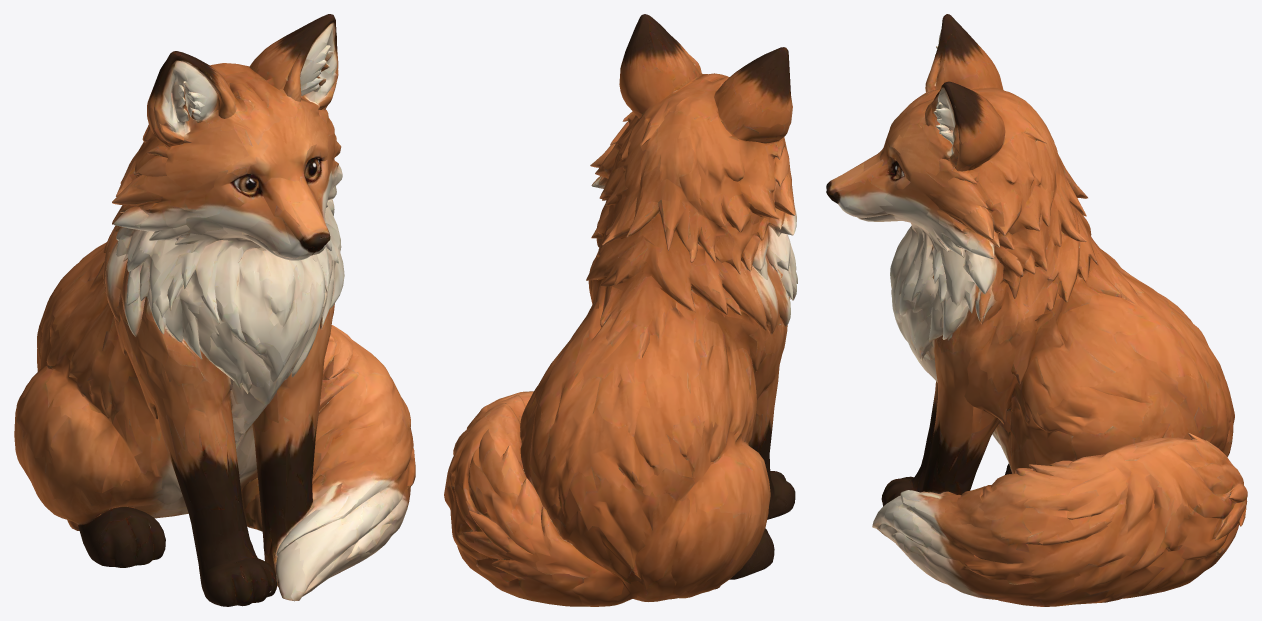
The model's file is upm_mu5vzrl148z.glb.
The picture shows the model from 3 angles, left to right: view 1: azimuth 30°, elevation 25°; view 2: azimuth 150°, elevation 25°; view 3: azimuth 270°, elevation 25°; orthographic projection. The views are drawn at different scales.
Size of the model in its own units: 1.27 by 1.9 by 1.52.
1 material, 1 textured.
